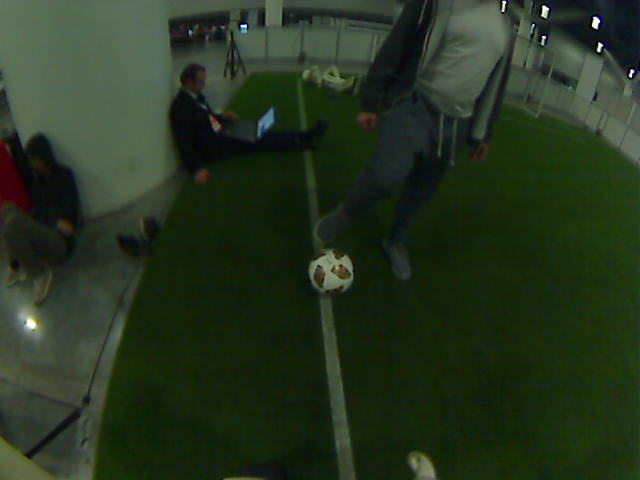ball: (310, 253, 350, 293)
goalpost: (529, 70, 543, 117)
robot: (343, 58, 363, 92)
